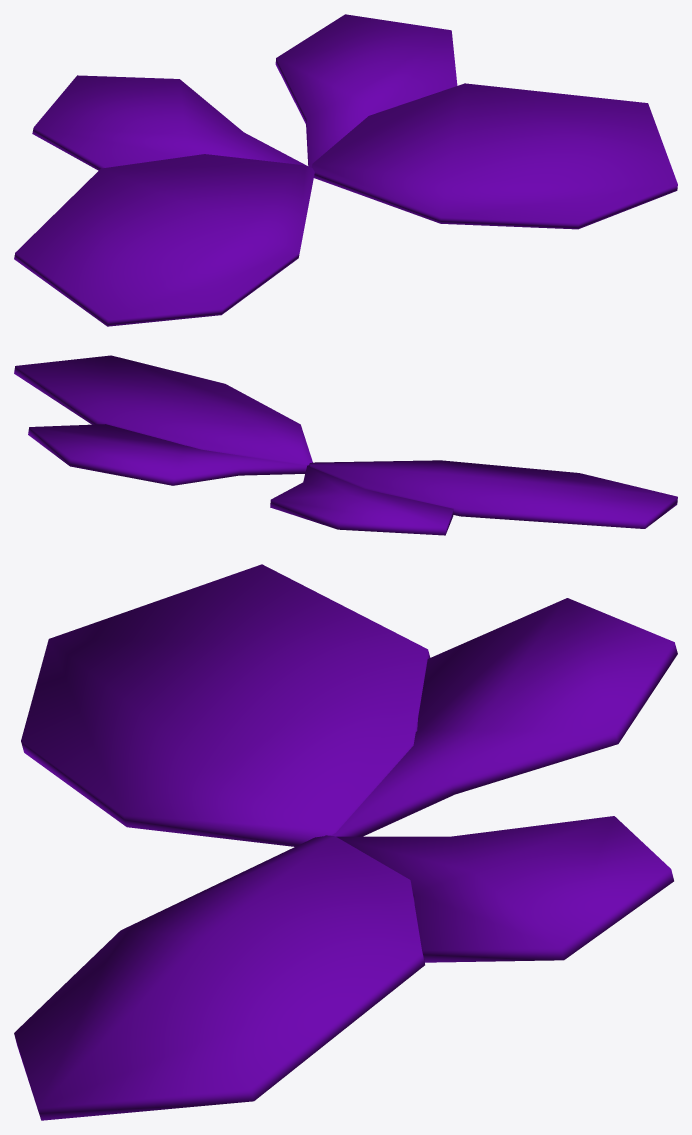
File: butterfly-transformed.glb
3 views of the same model, one above another, from view 1: azimuth 30°, elevation 25°; view 2: azimuth 150°, elevation 25°; view 3: azimuth 270°, elevation 25° (orthographic). The views are drawn at different scales.
Parts seen in each view (by area): view 1: butterflyWing.001, butterflyWing; view 2: butterflyWing.001, butterflyWing; view 3: butterflyWing, butterflyWing.001.
Boxes of the visible parts, x1,y1,x2,y2 form: butterflyWing.001: (275,14,677,229); butterflyWing: (14,75,314,326); butterflyWing.001: (14,355,312,485); butterflyWing: (270,460,677,535); butterflyWing: (21,564,677,846); butterflyWing.001: (14,816,673,1120).
Size of the model in its own units: 11.4 by 1.52 by 6.12.
